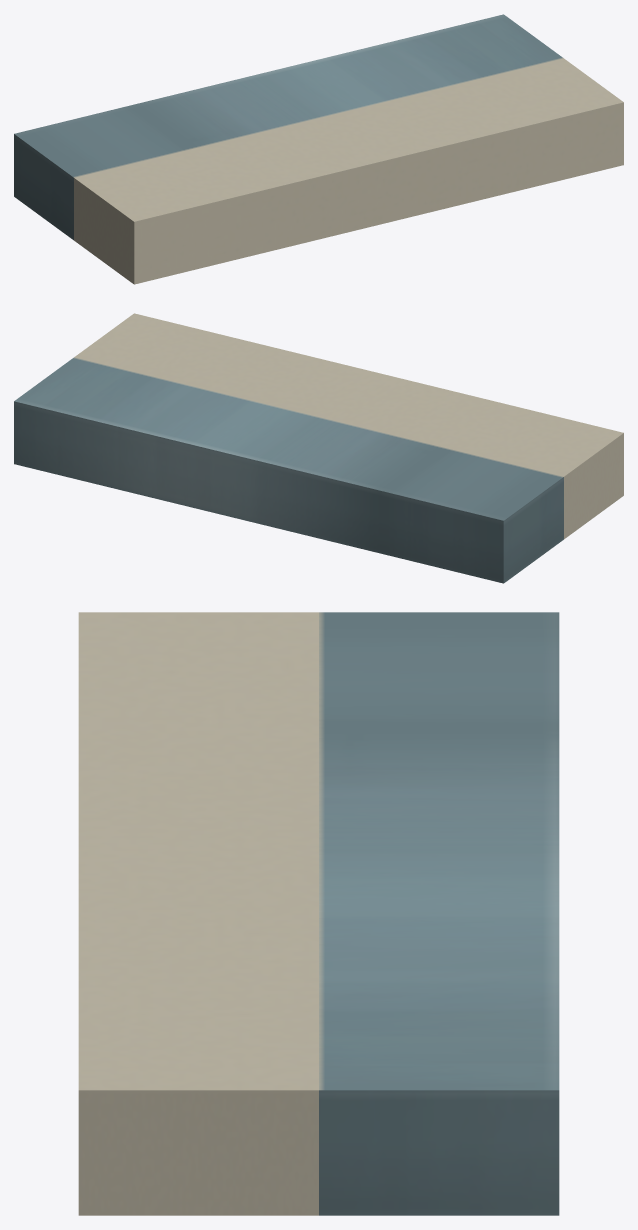
Rendered from set_pillar_01_04_base.fbx.
3 views of the same model, one above another, from view 1: azimuth 30°, elevation 25°; view 2: azimuth 150°, elevation 25°; view 3: azimuth 270°, elevation 25° (orthographic). The views are drawn at different scales.
Parts seen in each view (by area): view 1: set_pillar_01_04_base; view 2: set_pillar_01_04_base; view 3: set_pillar_01_04_base.
Part boxes in pixels (left/top/right/bottom): set_pillar_01_04_base: left=14, top=14, right=623, bottom=284; set_pillar_01_04_base: left=14, top=313, right=623, bottom=583; set_pillar_01_04_base: left=78, top=612, right=559, bottom=1215.
Bounding box in the file's own units: 160 × 19.6 × 68.
